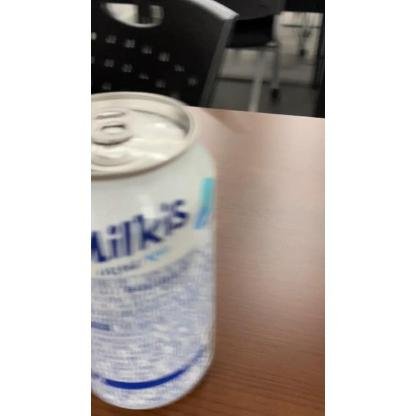Can: (92, 90, 222, 412)
